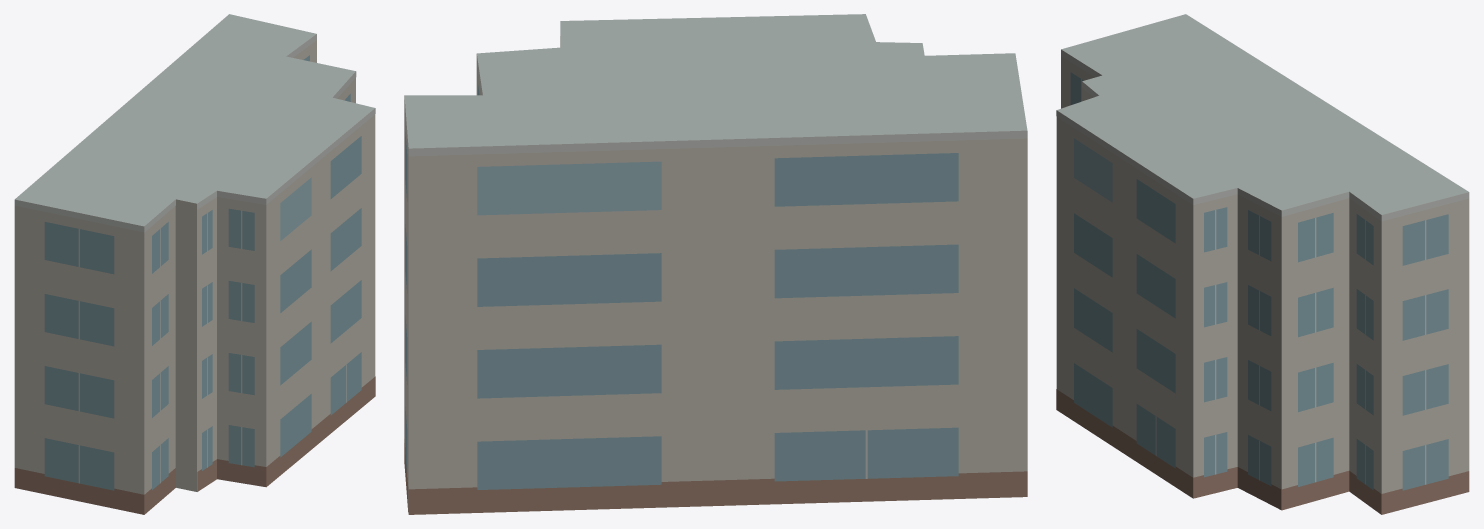
Rendered from survey-upis-32999157.glb.
3 views of the same model, side by side, from view 1: azimuth 30°, elevation 25°; view 2: azimuth 150°, elevation 25°; view 3: azimuth 270°, elevation 25° (orthographic). The views are drawn at different scales.
Visible parts, largest first — view 1: survey-upis-32999157.tmp; view 2: survey-upis-32999157.tmp; view 3: survey-upis-32999157.tmp.
Part boxes in pixels (box(x1,y1,x2,y2)): survey-upis-32999157.tmp: box(14, 14, 375, 514); survey-upis-32999157.tmp: box(404, 14, 1027, 514); survey-upis-32999157.tmp: box(1056, 14, 1469, 514).
Bounding box in the file's own units: 16.55 × 11.5 × 14.36.
